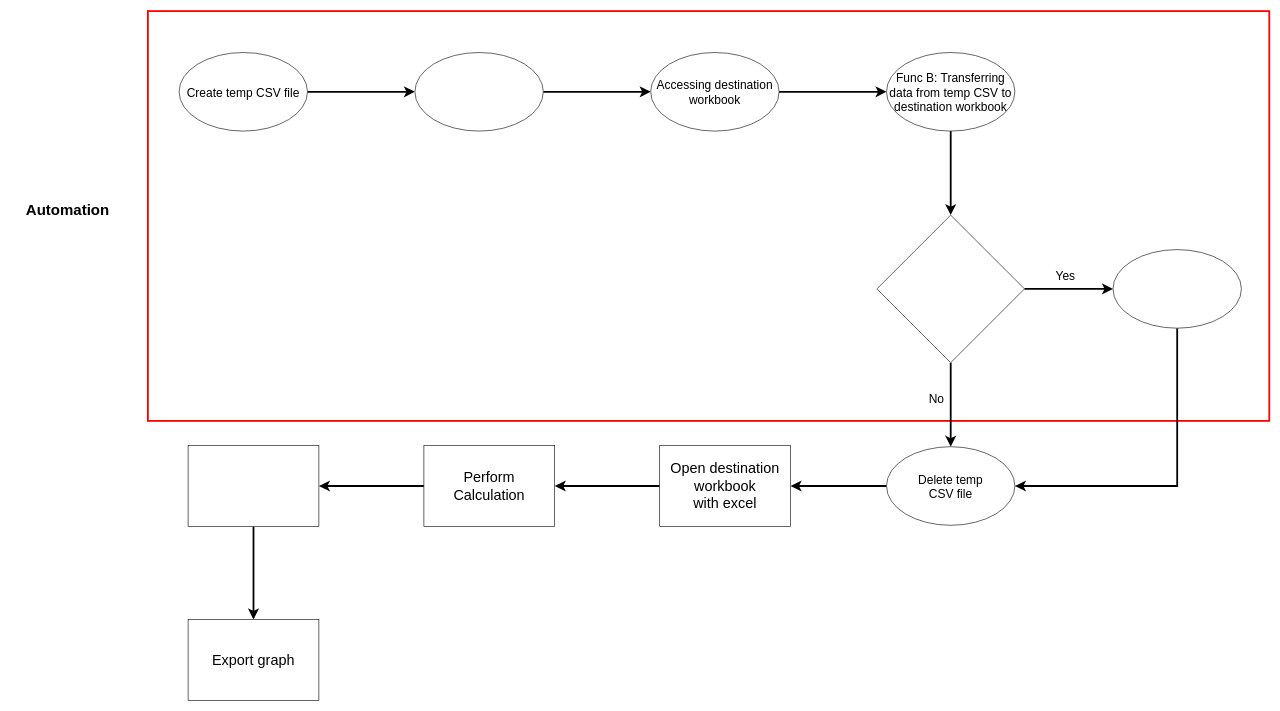
Image size: 1280x711. Some labels were removed from this diagram. The shapes that lost their labels are listed below. From the top down, each one's centre as x and y in pixels, then its label:
pixel 478 91: Func A: Importing xlm files to CSV
pixel 950 288: Move all files from source folder to "Data" folder?
pixel 1176 288: Moving all files to "Data" folder
pixel 253 485: Change graph range
